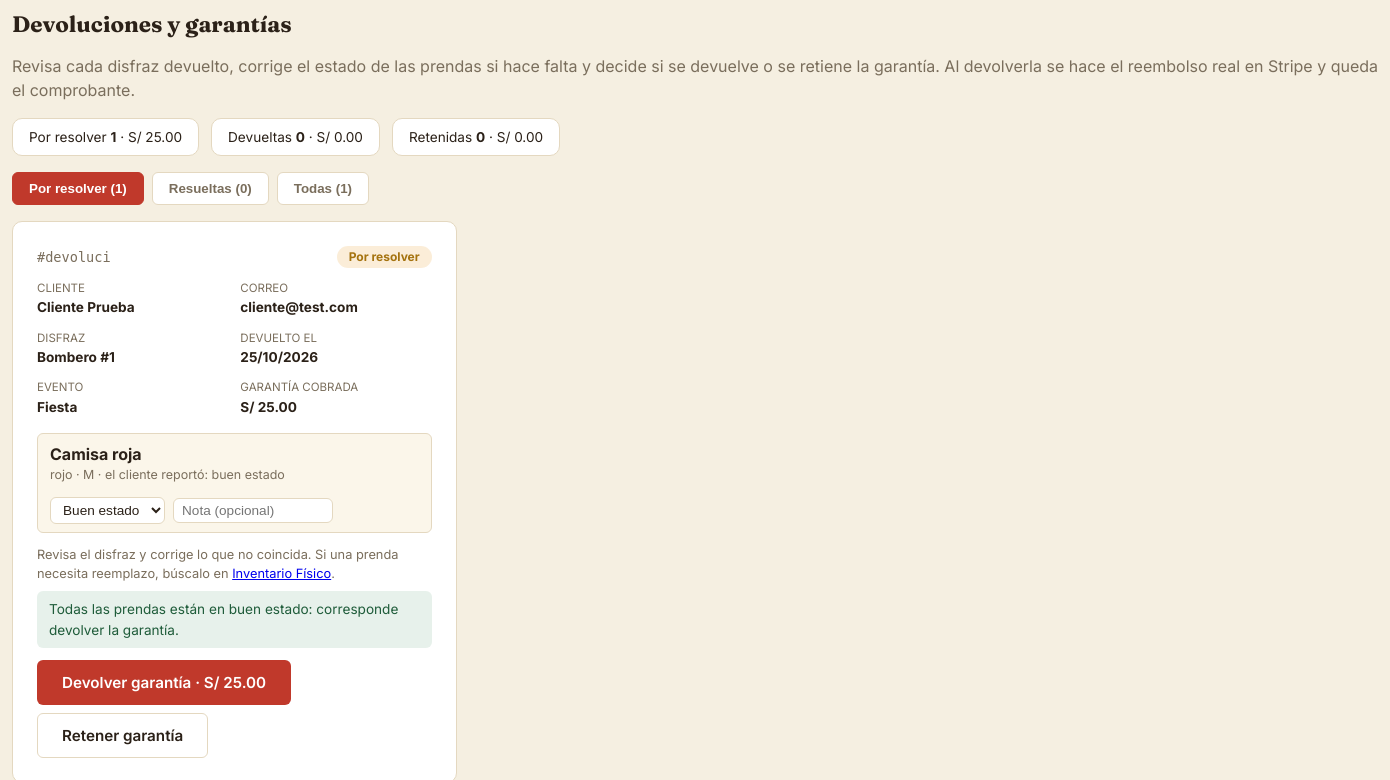
Scenario: Pruebas funcionales - Devoluciones › PF-FE-56: permite al administrador corregir el estado de una prenda devuelta
The image size is (1390, 780).
Select "Dañada" in the dropdown named "Estado de Camisa roja según tu revisión": (108, 510) [50,497,165,524]
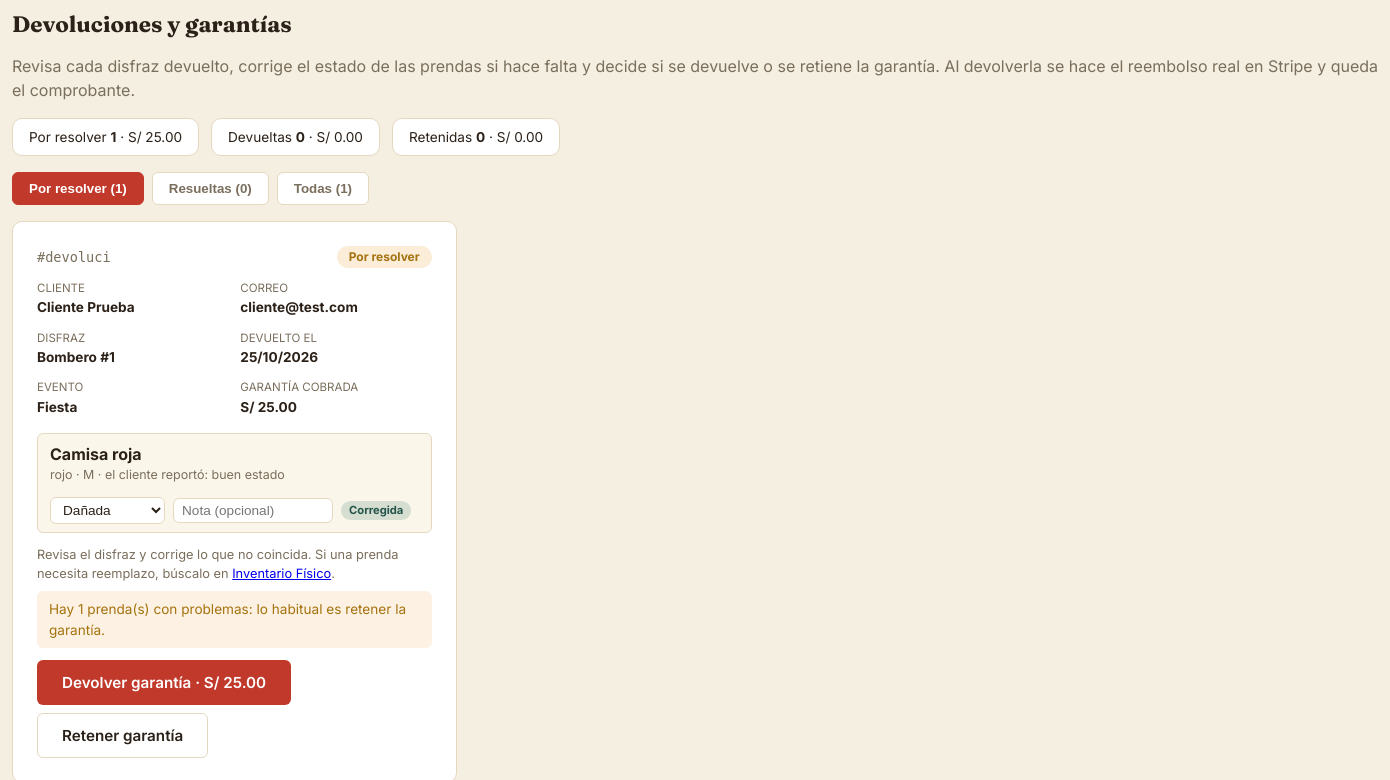
Expected: the text "Hay 1 prenda(s) con problemas" is shown, [49,601,406,638]
